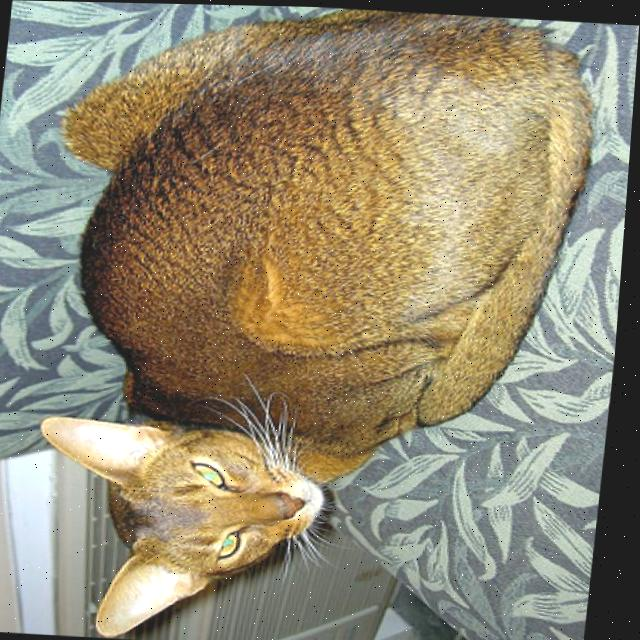Abyssinian: (6, 1, 609, 640)
